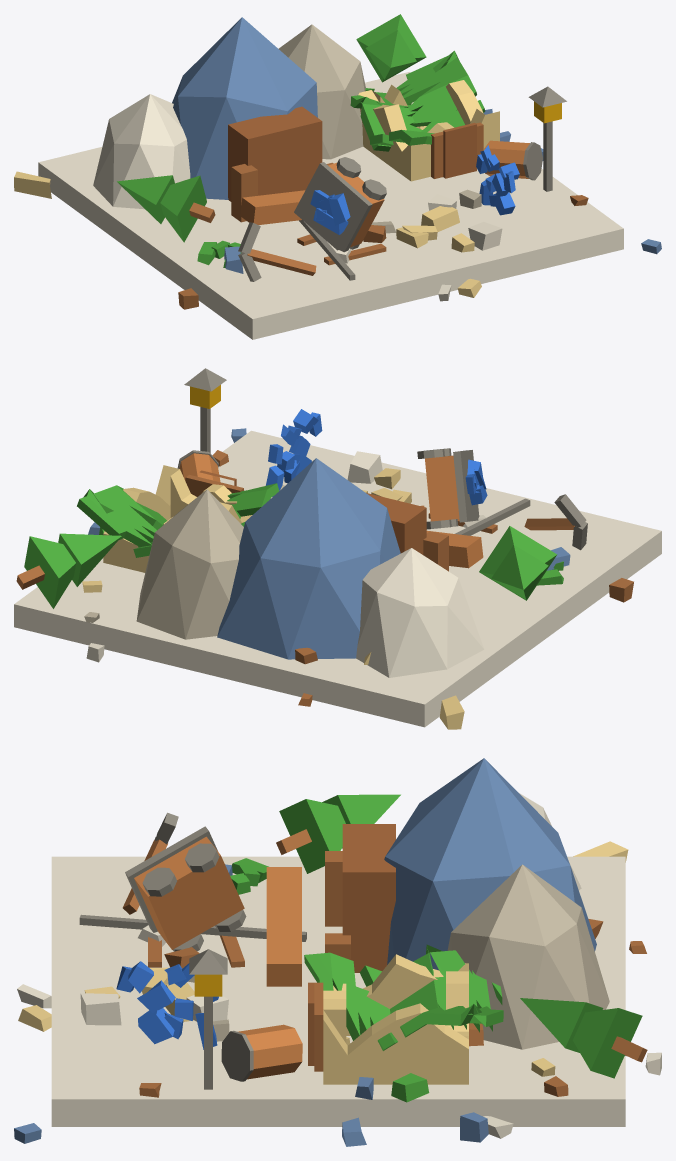
The model's file is mine_t2_v3_dmg2.glb.
3 renders of one model, top to bottom at view 1: azimuth 30°, elevation 25°; view 2: azimuth 150°, elevation 25°; view 3: azimuth 270°, elevation 25°, orthographic. The views are drawn at different scales.
Visible parts, largest first — view 1: mine_t2_v3_dmg2; view 2: mine_t2_v3_dmg2; view 3: mine_t2_v3_dmg2.
Part boxes in pixels (box(x1,y1,x2,y2)): mine_t2_v3_dmg2: box(14, 14, 661, 339); mine_t2_v3_dmg2: box(14, 368, 661, 729); mine_t2_v3_dmg2: box(14, 758, 661, 1146).
Bounding box in the file's own units: 0.8791 × 0.3242 × 0.8465.
Materials: 1 (1 with a texture image).
